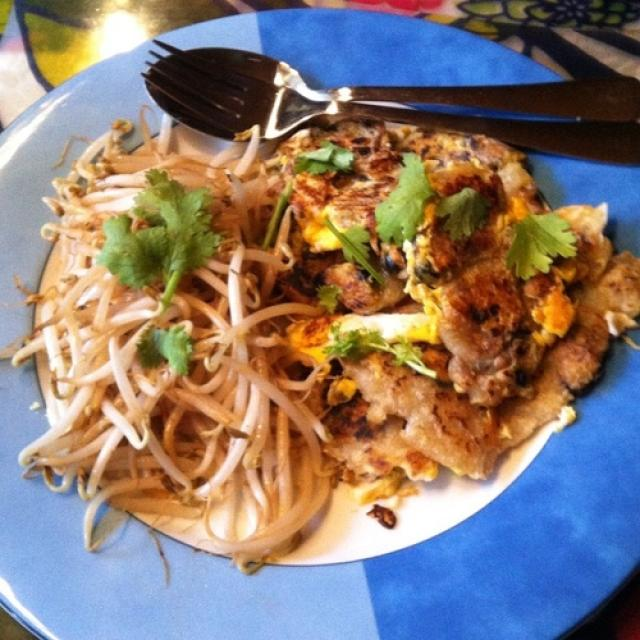炸货点心: (4, 18, 634, 628)
蛋糕甜品: (4, 18, 634, 628)
